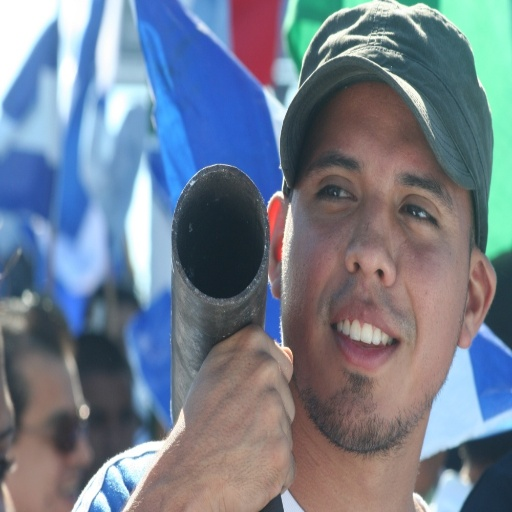hand: (139, 309, 317, 508)
